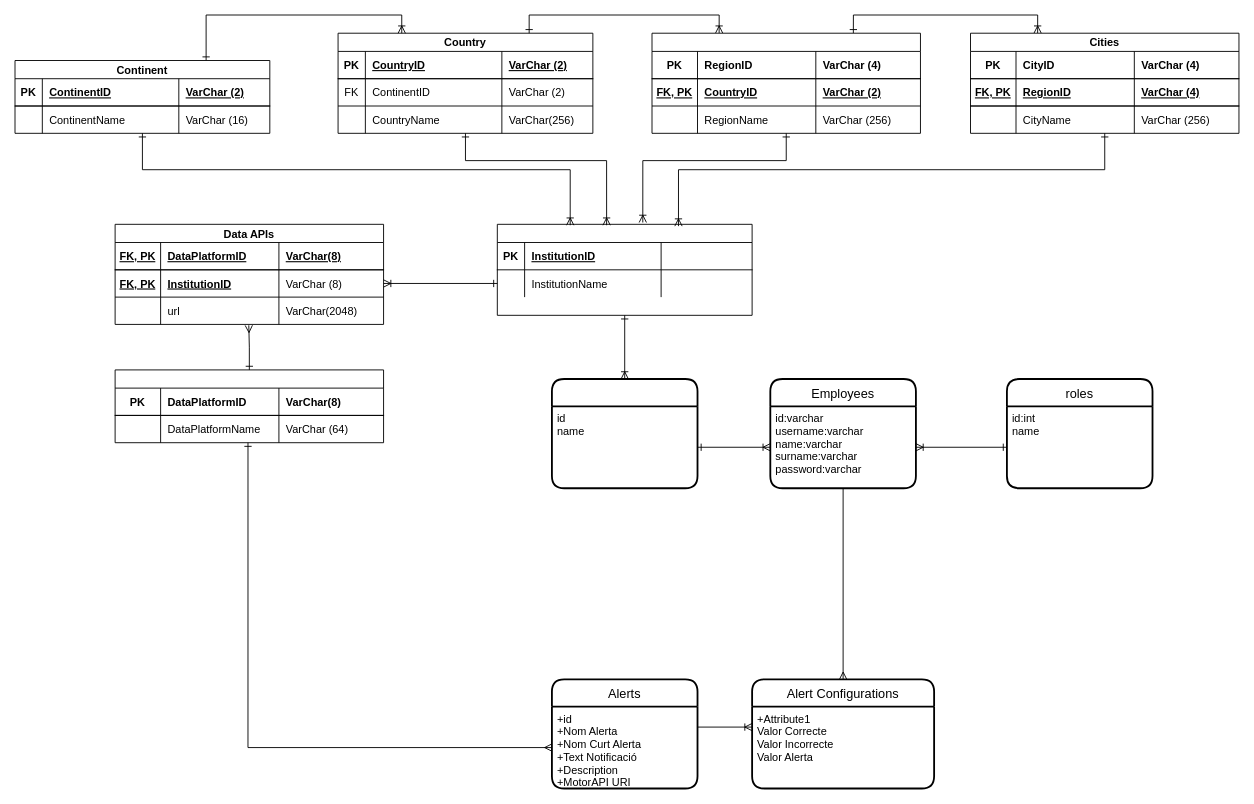
Image size: 1254x804. Some labels were removed from this diagram. Each missing label, with the box of its shape:
Data Platforms: (114, 369, 384, 443)
Healthcare Institutions: (496, 223, 752, 315)
Regions: (651, 32, 920, 133)
Serveis: (551, 378, 698, 489)
